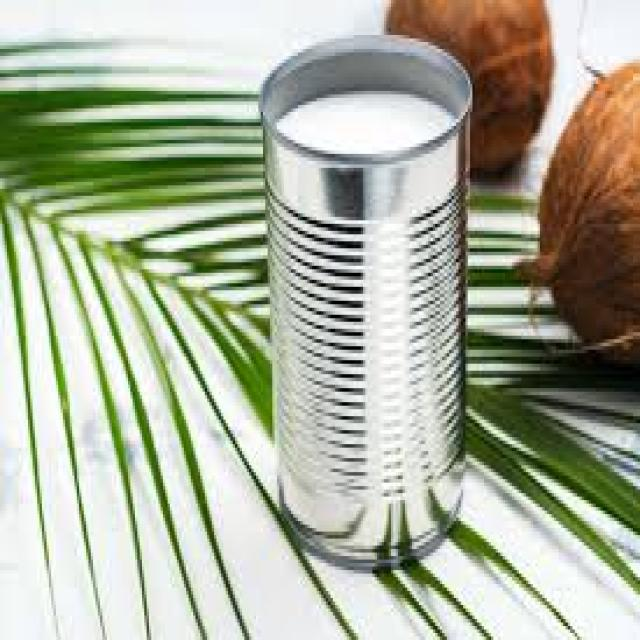Cans: (246, 21, 474, 556)
